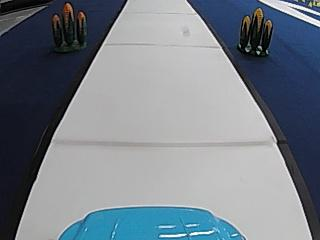corn: (44, 3, 92, 54), (234, 5, 276, 58)
